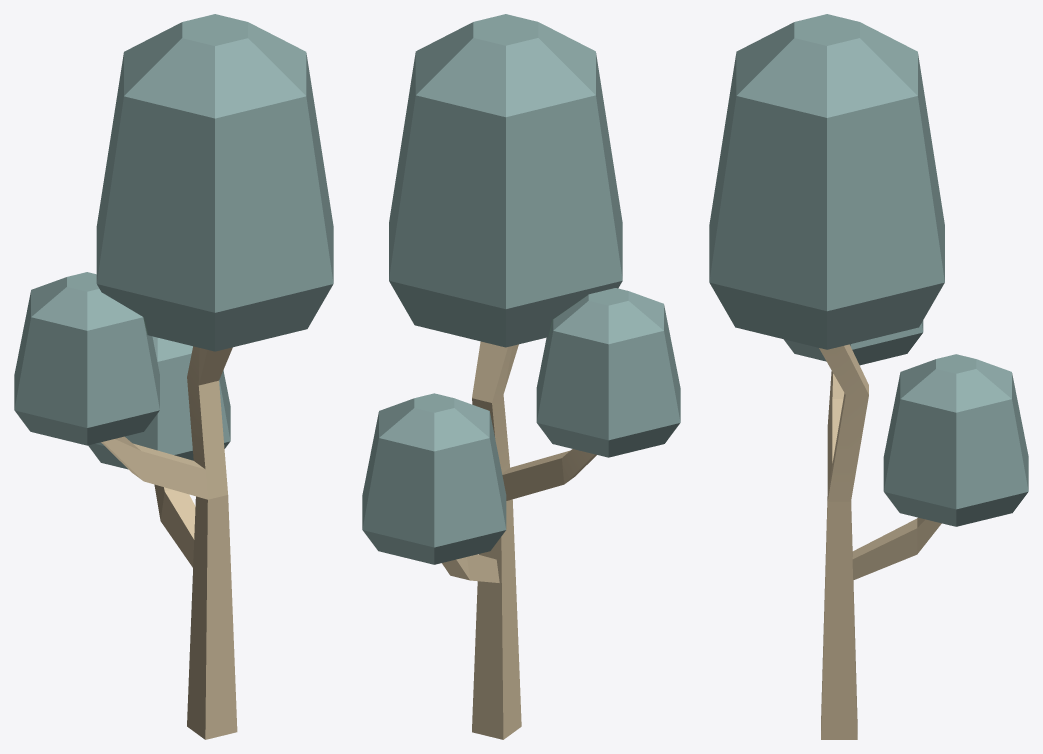
Rendered from tree_062.fbx.
The picture shows the model from 3 angles, left to right: view 1: azimuth 30°, elevation 25°; view 2: azimuth 150°, elevation 25°; view 3: azimuth 270°, elevation 25°; orthographic projection.
Parts seen in each view (by area): view 1: Mesh1 Group1 Model; view 2: Mesh1 Group1 Model; view 3: Mesh1 Group1 Model.
Boxes of the visible parts, x1,y1,x2,y2 form: Mesh1 Group1 Model: [14, 14, 333, 739]; Mesh1 Group1 Model: [362, 14, 680, 739]; Mesh1 Group1 Model: [709, 14, 1028, 739].
Bounding box in the file's own units: 272 × 596 × 246.
